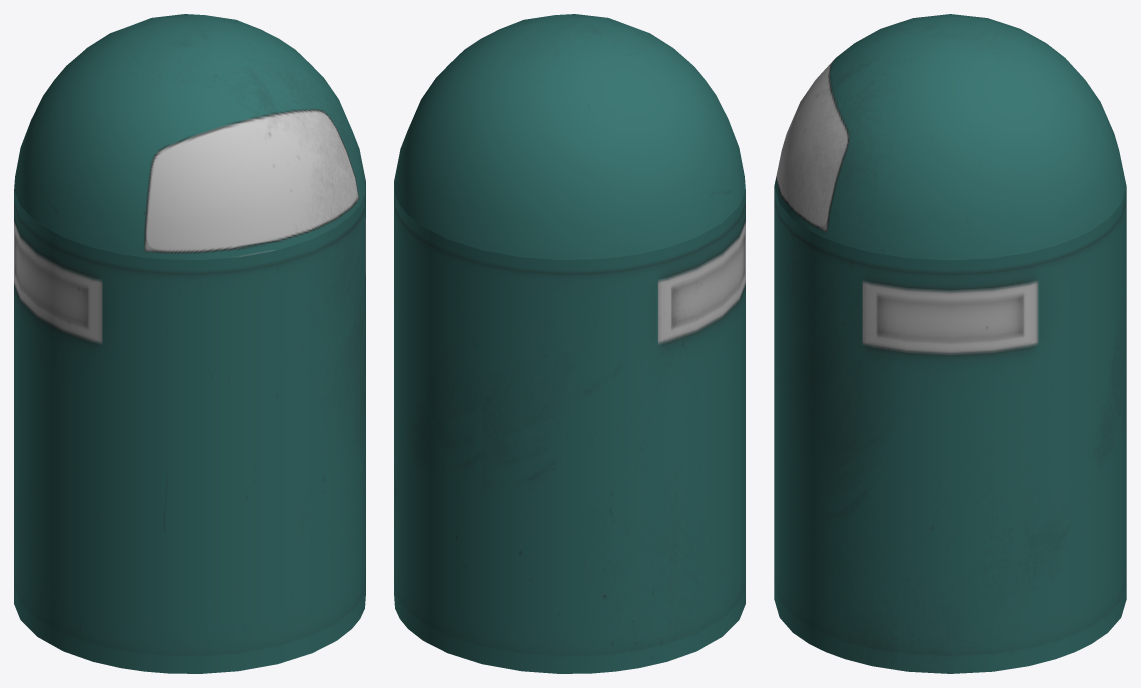
File: Trashcan_b.fbx
3 renders of one model, left to right at view 1: azimuth 30°, elevation 25°; view 2: azimuth 150°, elevation 25°; view 3: azimuth 270°, elevation 25°, orthographic.
Parts seen in each view (by area): view 1: Trashcan_b; view 2: Trashcan_b; view 3: Trashcan_b.
Boxes of the visible parts, x1,y1,x2,y2 form: Trashcan_b: (14,14,365,673); Trashcan_b: (394,14,745,673); Trashcan_b: (774,14,1126,673).
Size of the model in its own units: 35.12 by 62.67 by 35.12.
